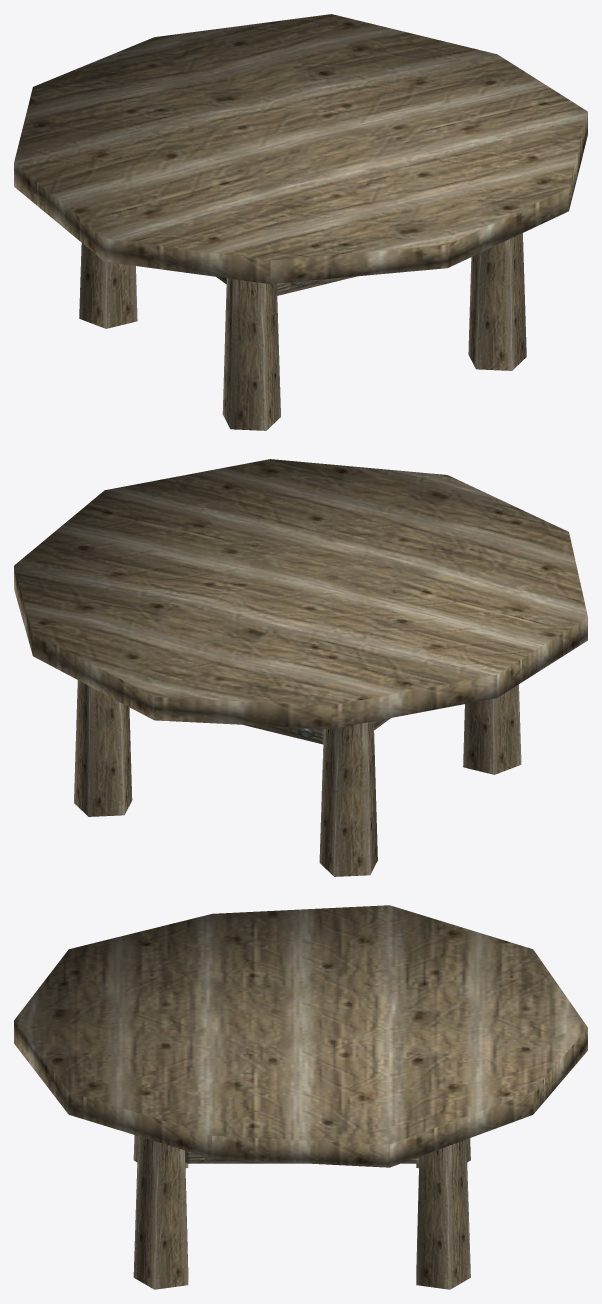
The model's file is westfalltable.glb.
3 views of the same model, one above another, from view 1: azimuth 30°, elevation 25°; view 2: azimuth 150°, elevation 25°; view 3: azimuth 270°, elevation 25° (orthographic). The views are drawn at different scales.
Bounding box in the file's own units: 2.7 × 1.07 × 2.83.
2 materials, 2 textured.
